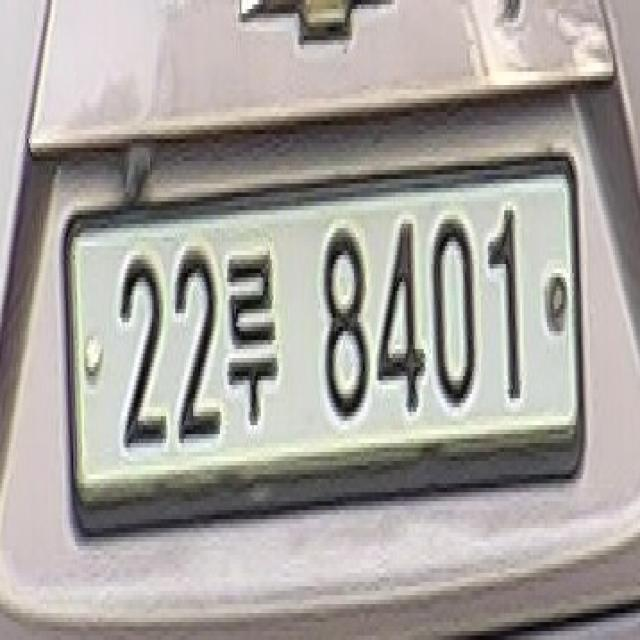0: (429, 203, 484, 422)
1: (482, 193, 531, 417)
2: (115, 245, 174, 461), (172, 236, 228, 452)
4: (376, 209, 433, 421)
8: (317, 211, 377, 427)
license_plate: (70, 171, 579, 495)
lu: (226, 230, 287, 439)
